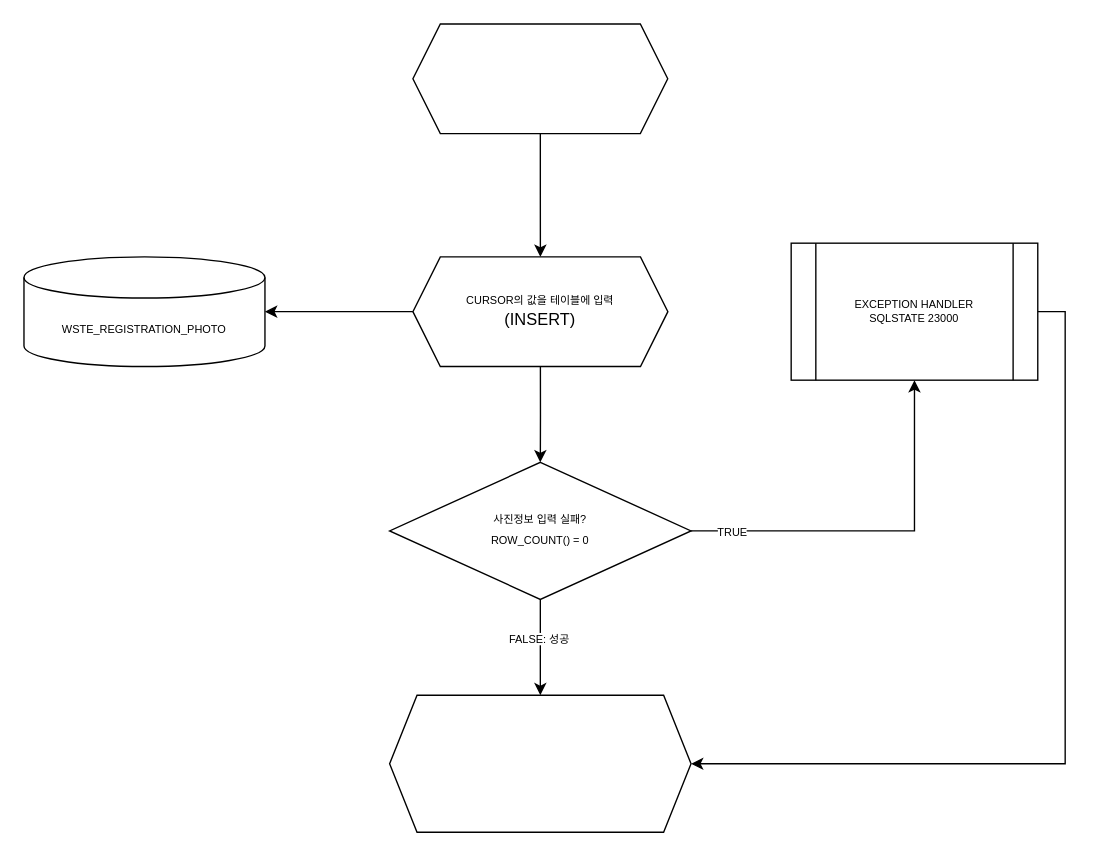
This 1100x856 diagram has some shape labels left out. Here are the shapes that lost their labels. From the top down, the centre of each, then its label:
At point (540, 78): "폐기물 사진정보(JSON)를 CURSOR에 대입".
At point (539, 763): "sp_return_results (@rtn_val, @msg_txt, @json_data) 결과를 반환한다.".
